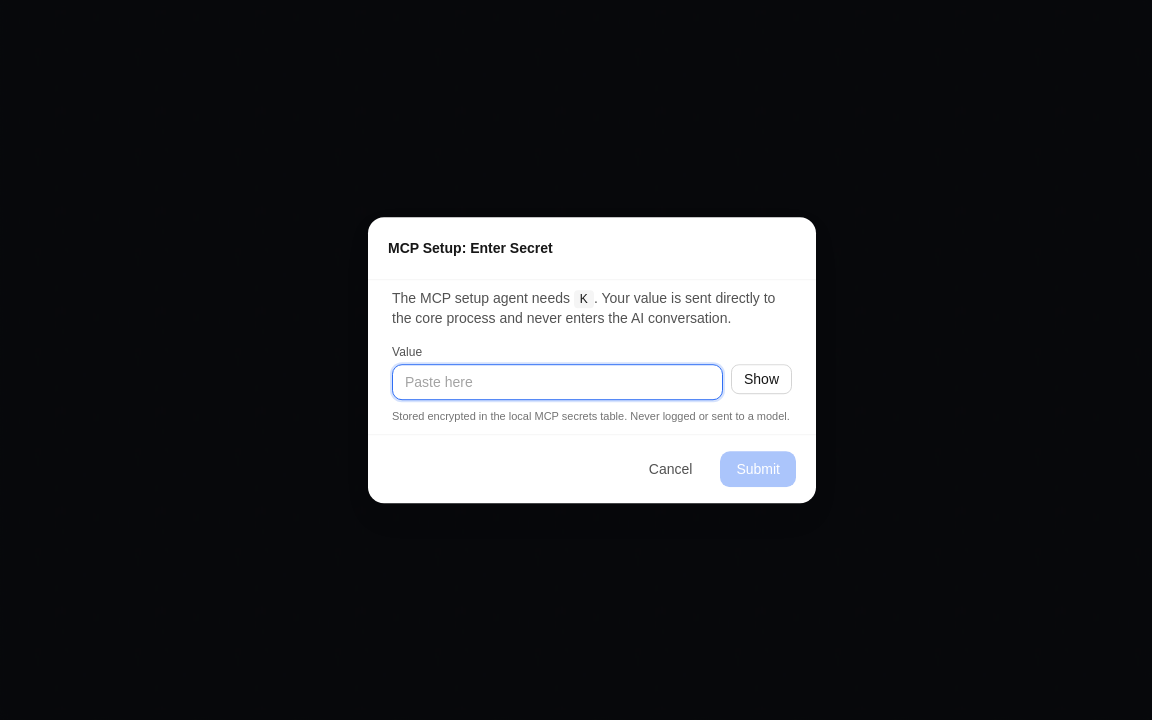
Test case: SecretPromptDialog › surfaces submit errors without dismissing
Check: the dialog is shown, box [368,217,816,503]
Type "v" into the password field labelled "Value" at (558, 382), box [392,364,723,400]
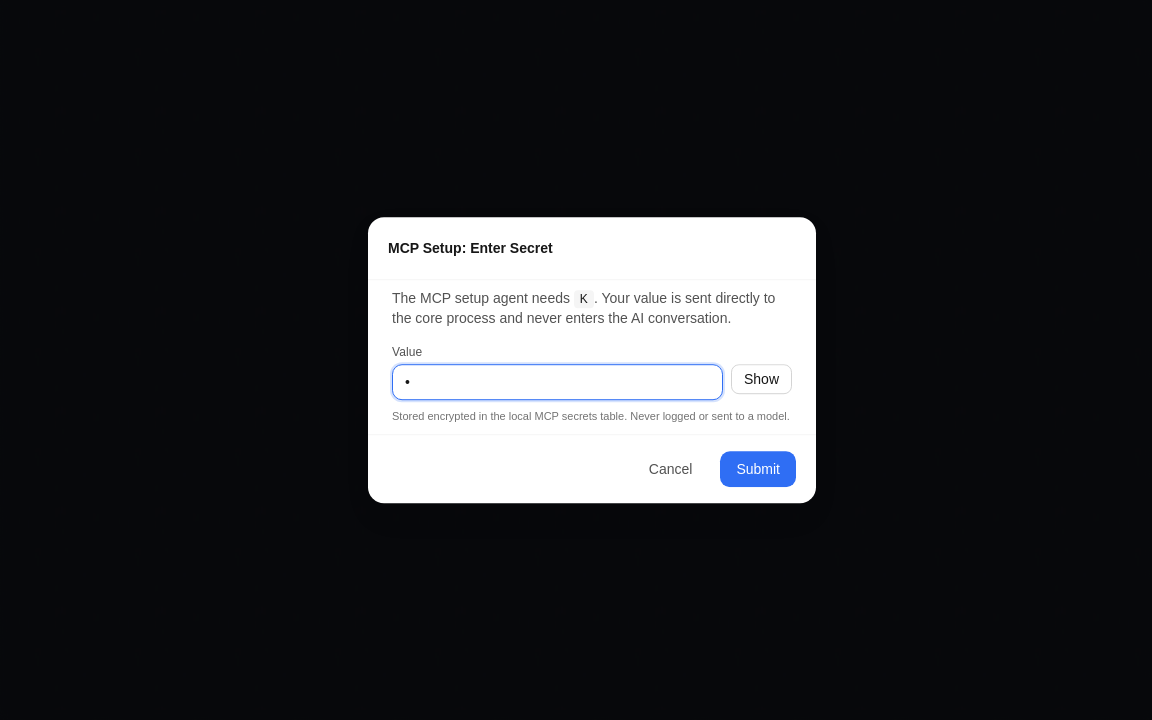
Click the button "Submit" at (758, 469), box [720,451,796,487]
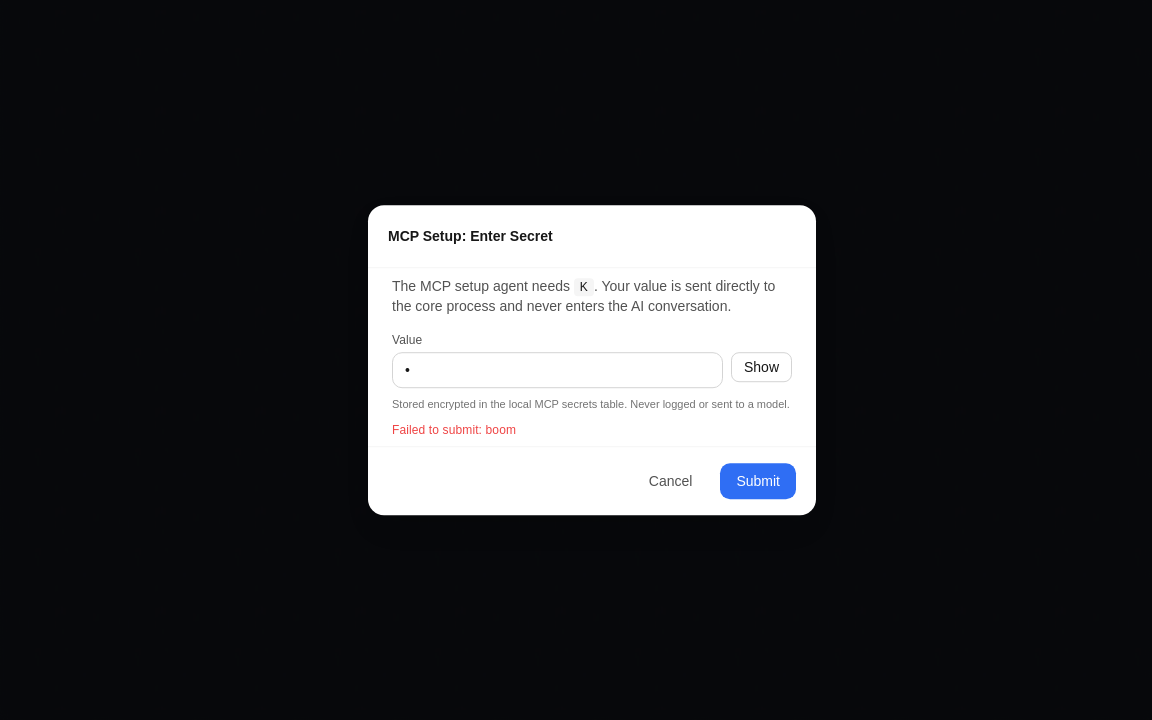
Check: the dialog is shown, box [368,205,816,515]
Check: the text "Failed to submit: boom" is shown, box [392,423,516,437]
